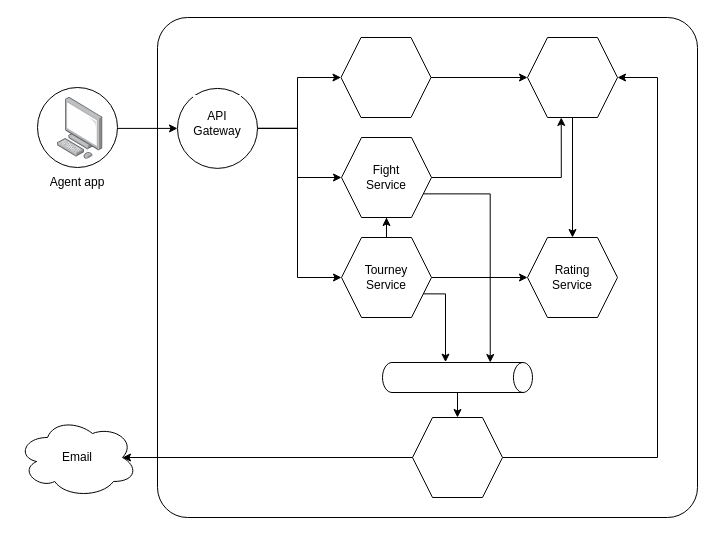
Some shapes in this 715 by 535 pixel diagram are drawn without their labels. The centre of each missing label's shape, as x and y in pixels:
"Authority Service" belongs at pixel 385 77.
"Message Service" belongs at pixel 457 457.
"User Service" belongs at pixel 572 77.
